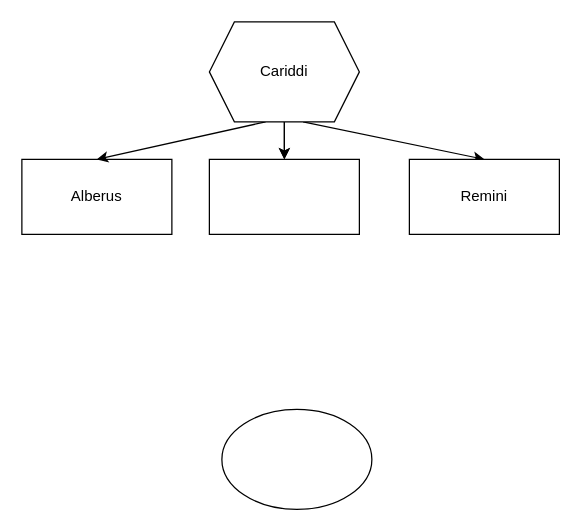
Some shapes in this 581 by 531 pixel diagram are drawn without their labels. The shapes that lost their labels are listed below. From the top down, each one's centre as x and y in pixels, then its label:
the point at 283,196: Valkyrie
the point at 296,458: BrainStorm
